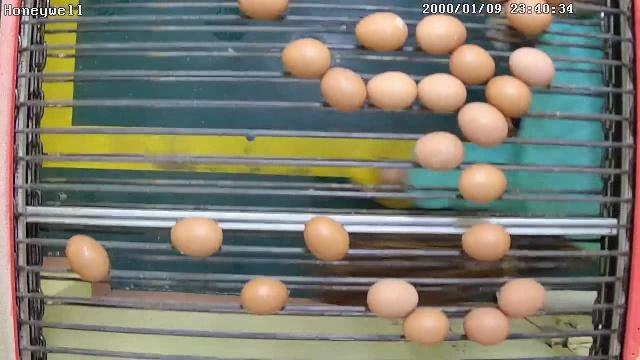egg: (456, 100, 510, 148), (353, 9, 409, 54), (302, 214, 352, 264), (168, 215, 224, 259), (413, 12, 468, 56), (318, 66, 368, 114), (65, 233, 112, 284), (365, 276, 419, 320), (417, 71, 468, 116), (280, 36, 332, 80), (484, 72, 532, 118), (496, 276, 546, 320), (402, 304, 452, 348), (413, 131, 464, 174), (366, 70, 418, 112), (238, 274, 290, 316), (459, 222, 512, 263), (508, 45, 556, 90), (448, 42, 497, 86), (460, 305, 510, 347), (458, 162, 507, 204), (504, 0, 554, 36)
